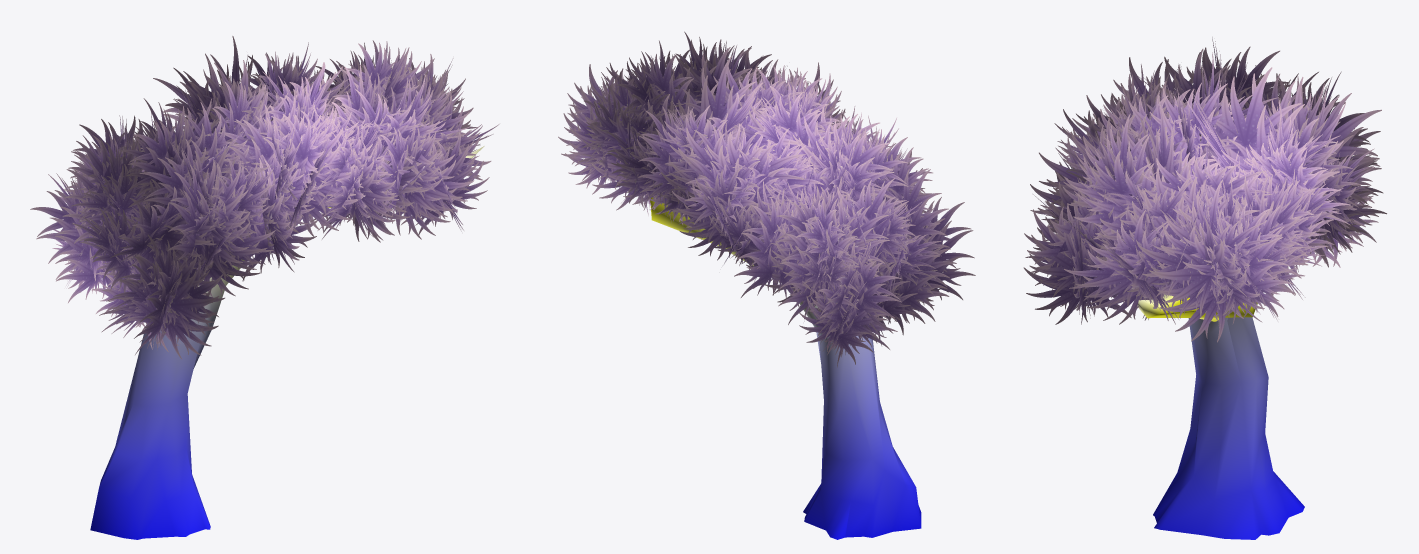
Rendered from Birow2.fbx.
The picture shows the model from 3 angles, left to right: view 1: azimuth 30°, elevation 25°; view 2: azimuth 150°, elevation 25°; view 3: azimuth 270°, elevation 25°; orthographic projection. The views are drawn at different scales.
Visible parts, largest first — view 1: Birow_2_LOD0; view 2: Birow_2_LOD0; view 3: Birow_2_LOD0.
Part boxes in pixels (<box>): Birow_2_LOD0: <box>30,36,499,539</box>; Birow_2_LOD0: <box>558,31,975,539</box>; Birow_2_LOD0: <box>1023,37,1386,539</box>.
Size of what is drawn, in the model's own units: 271 by 275 by 185.
